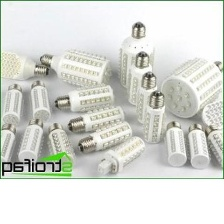light_bulb: (157, 52, 224, 122), (40, 41, 116, 91), (114, 19, 161, 89), (95, 133, 148, 176), (51, 81, 116, 115), (66, 103, 128, 134), (75, 120, 133, 153), (124, 49, 156, 107), (0, 47, 49, 82), (15, 111, 45, 167), (134, 69, 164, 125), (46, 119, 77, 169), (141, 87, 167, 143), (26, 76, 54, 124), (163, 118, 188, 169), (186, 121, 211, 170), (0, 80, 24, 129), (0, 120, 19, 171), (204, 123, 224, 168)
